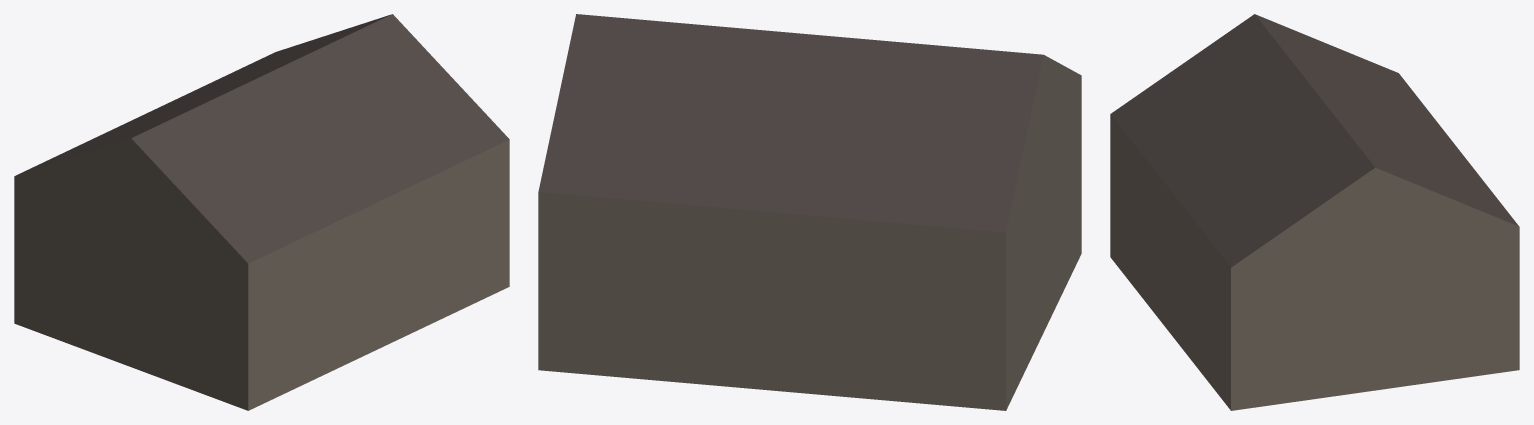
3 views of the same model, side by side, from view 1: azimuth 30°, elevation 25°; view 2: azimuth 150°, elevation 25°; view 3: azimuth 270°, elevation 25° (orthographic). The views are drawn at different scales.
Visible parts, largest first — view 1: HP-w859082506; view 2: HP-w859082506; view 3: HP-w859082506.
Part boxes in pixels (bbox=[...]): HP-w859082506: bbox=[14, 14, 509, 410]; HP-w859082506: bbox=[538, 14, 1081, 410]; HP-w859082506: bbox=[1110, 14, 1519, 410].
Bounding box in the file's own units: 17.47 × 9.33 × 15.52.
